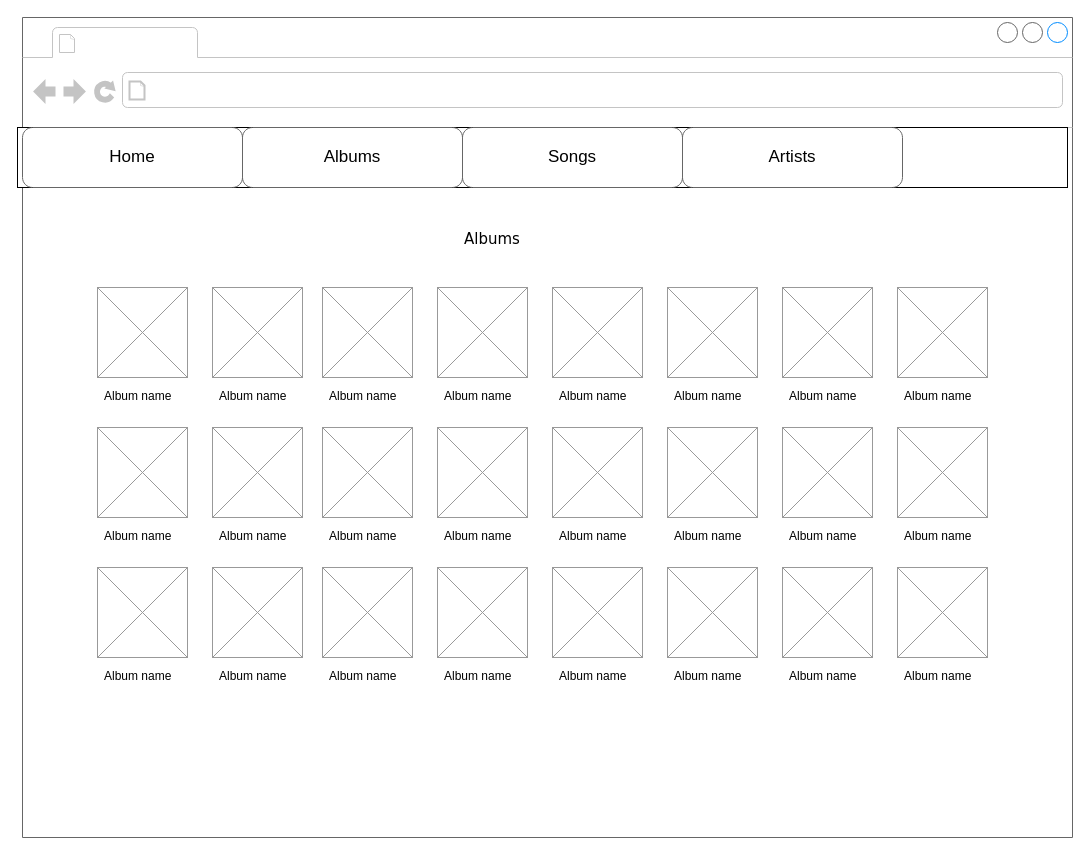
This 1090x855 diagram has some shape labels left out. Each missing label, with the centre of its shape:
"https://www.default.com/albums" belongs at point (277, 90).
"Page 1" belongs at point (137, 42).
